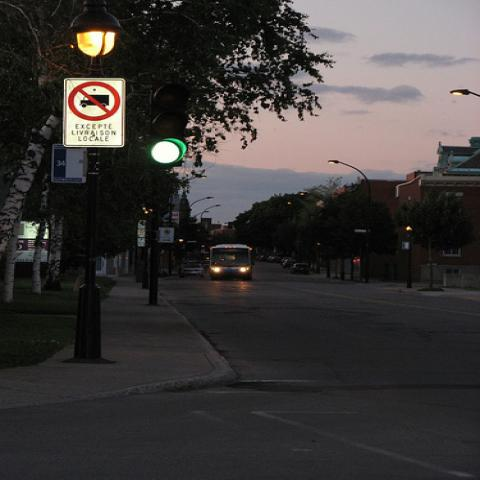bus: (203, 243, 259, 282)
car: (178, 261, 205, 278), (290, 263, 310, 275), (282, 259, 297, 269)
